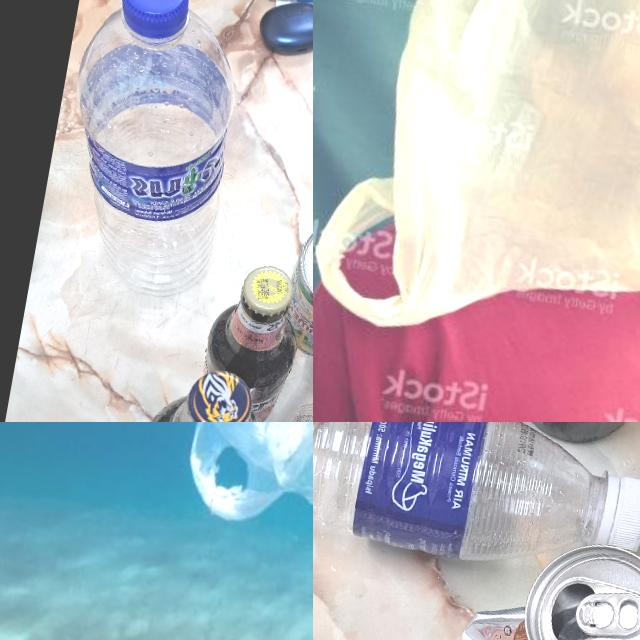aba de lata: (572, 586, 640, 640)
bateria: (265, 0, 313, 8)
garrafa de vidro: (194, 257, 309, 422), (122, 358, 287, 422)
garrafa plástica: (42, 0, 253, 304), (313, 422, 615, 581)
lata: (441, 522, 640, 640), (277, 208, 313, 368)
sacola plástica: (313, 0, 640, 418)
tampa plástica: (594, 473, 640, 554), (117, 0, 194, 44)
